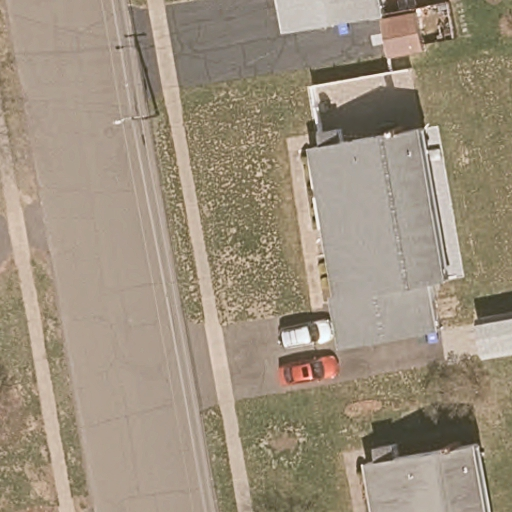DT: (112, 110, 160, 126)
